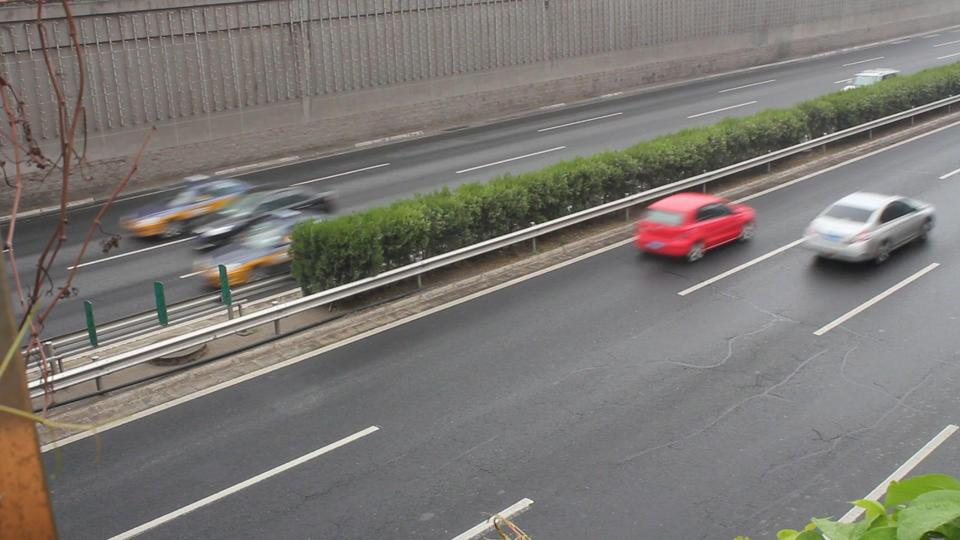car: (801, 190, 938, 266), (186, 184, 338, 252), (631, 190, 758, 264), (120, 177, 252, 240), (210, 213, 314, 289)
